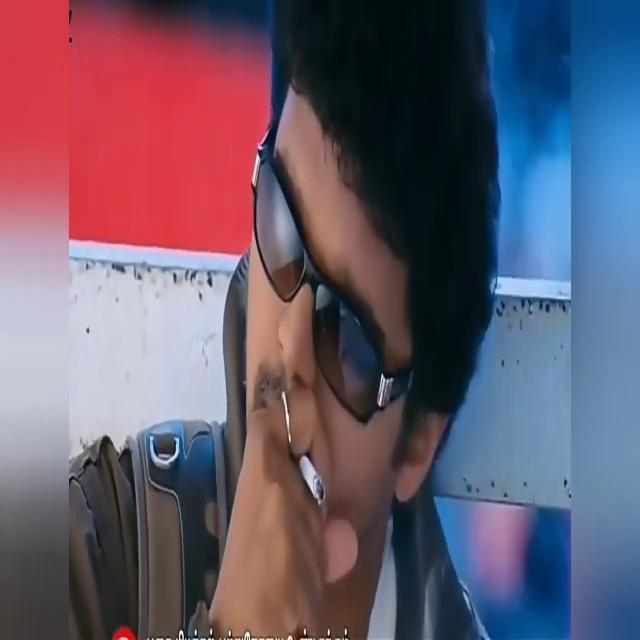smoking: (304, 452, 328, 506)
